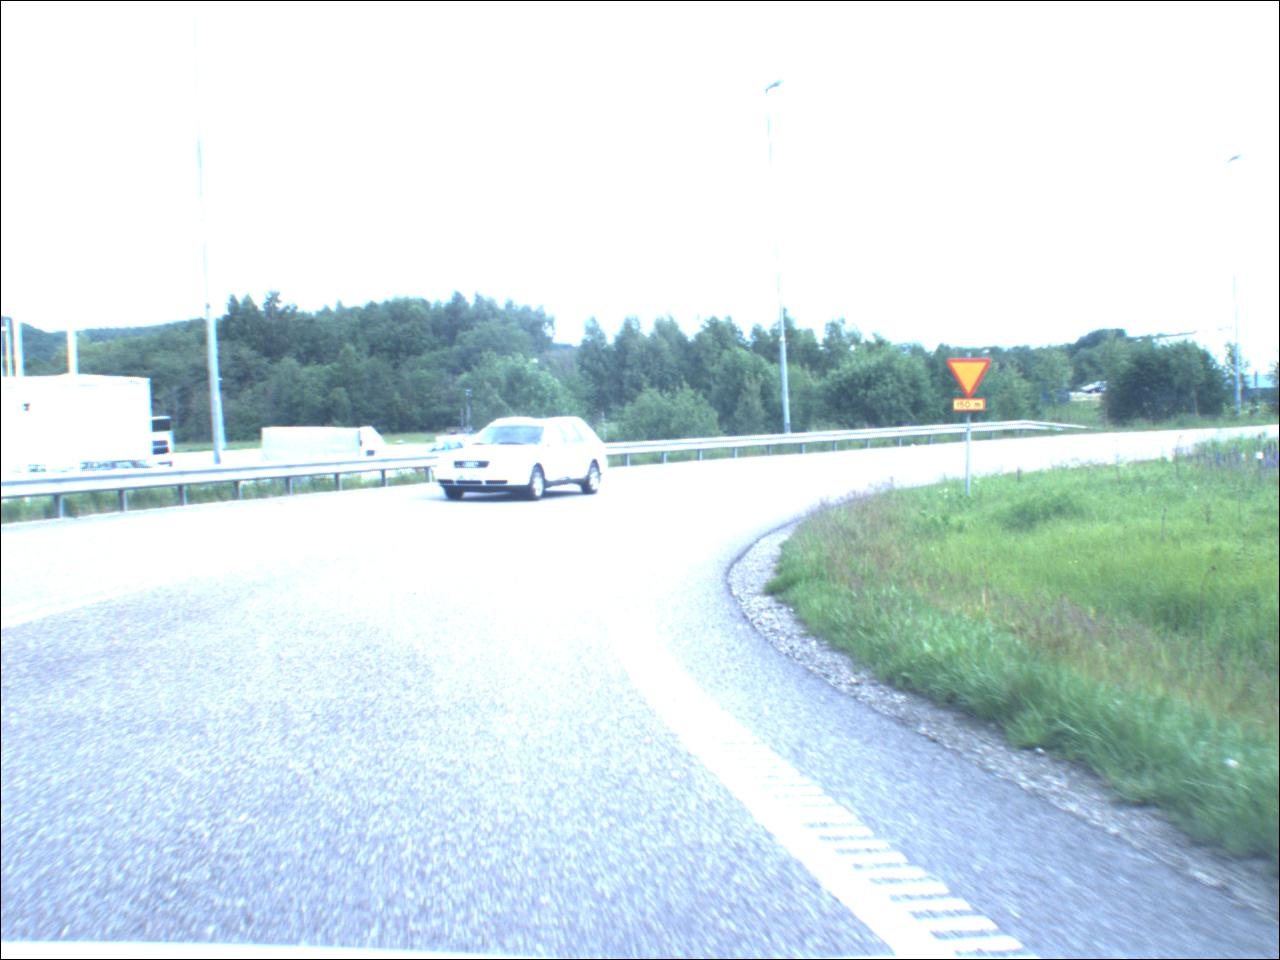GIVE_WAY: (946, 360, 993, 400)
